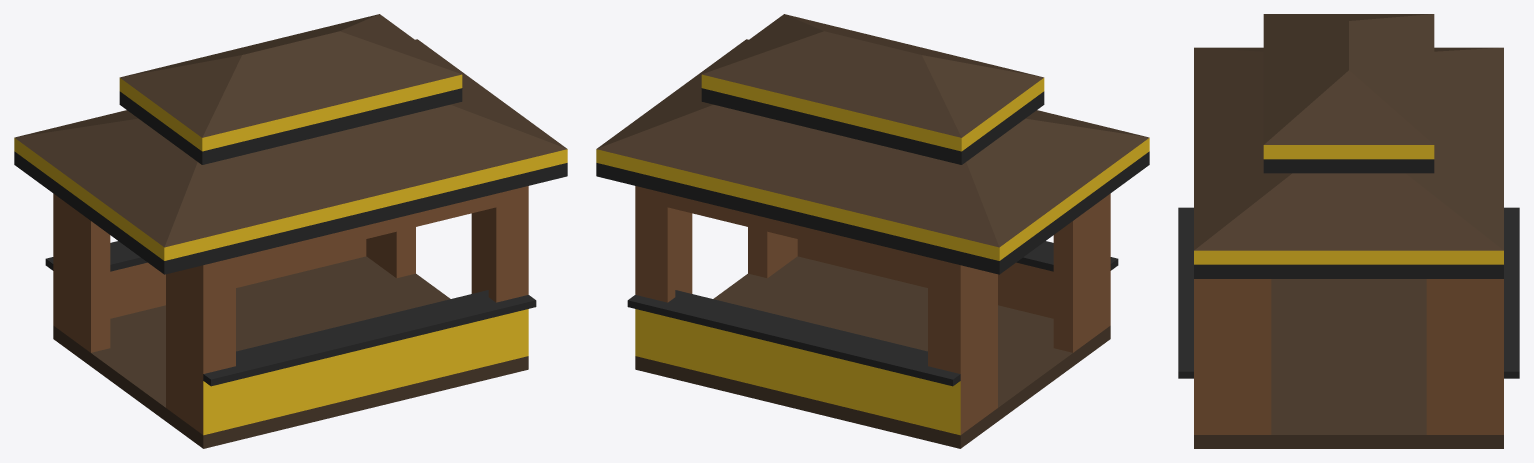
File: bar-tropic.glb
3 views of the same model, side by side, from view 1: azimuth 30°, elevation 25°; view 2: azimuth 150°, elevation 25°; view 3: azimuth 270°, elevation 25° (orthographic). The views are drawn at different scales.
Visible parts, largest first — view 1: bar-tropic; view 2: bar-tropic; view 3: bar-tropic.
Part boxes in pixels (x1,y1,x2,y2): bar-tropic: (14,14,567,448); bar-tropic: (596,14,1149,448); bar-tropic: (1178,14,1519,448).
Bounding box in the file's own units: 6.2 × 4.57 × 4.4.
Materials: 1 (1 with a texture image).
